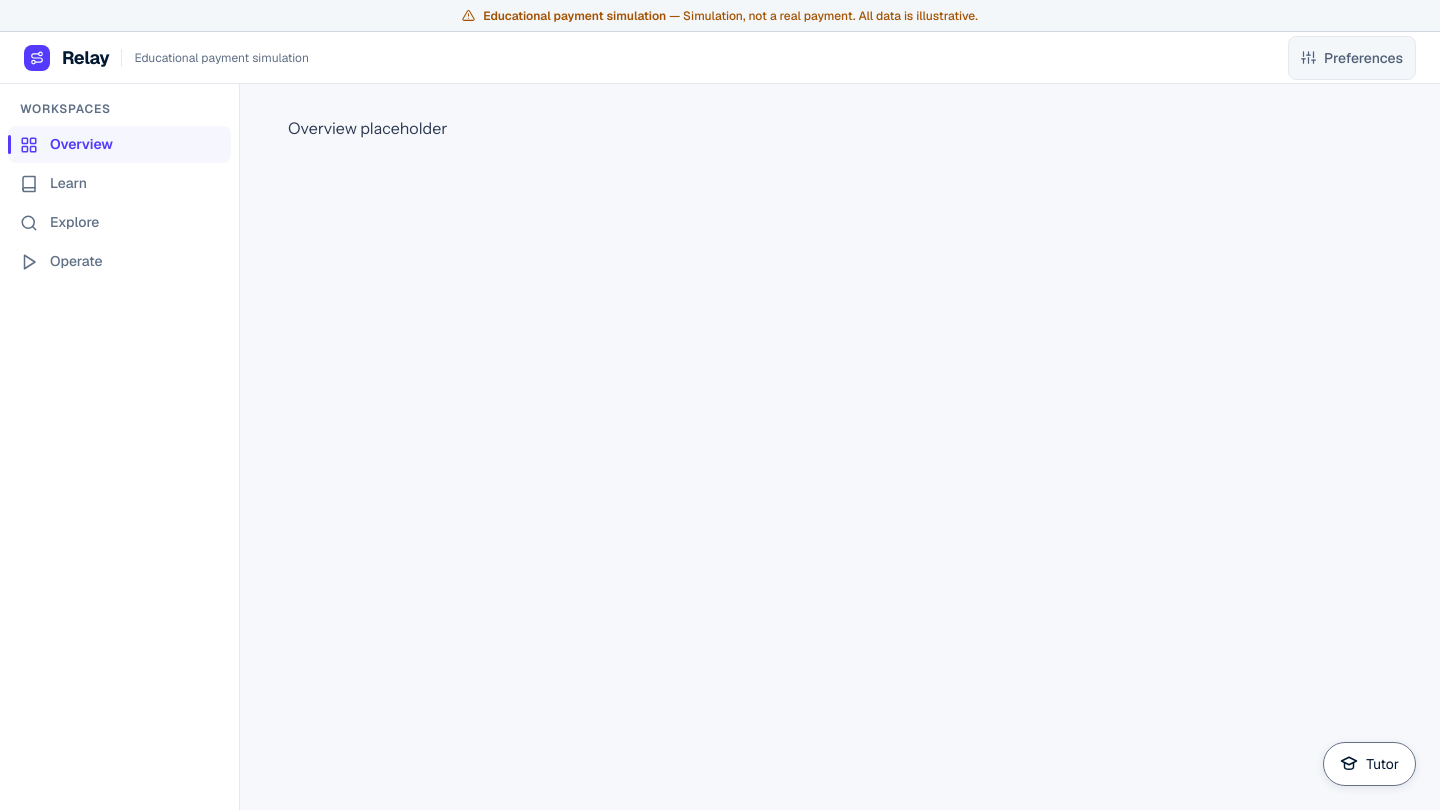
Scenario: AppShell preferences › reaches the settings route through the menu, and closes the menu on the way
What coordinates should you click on to do the following:
click the button "Preferences"
I would click on:
 (1352, 58)
Its box is [1288,36,1416,80].
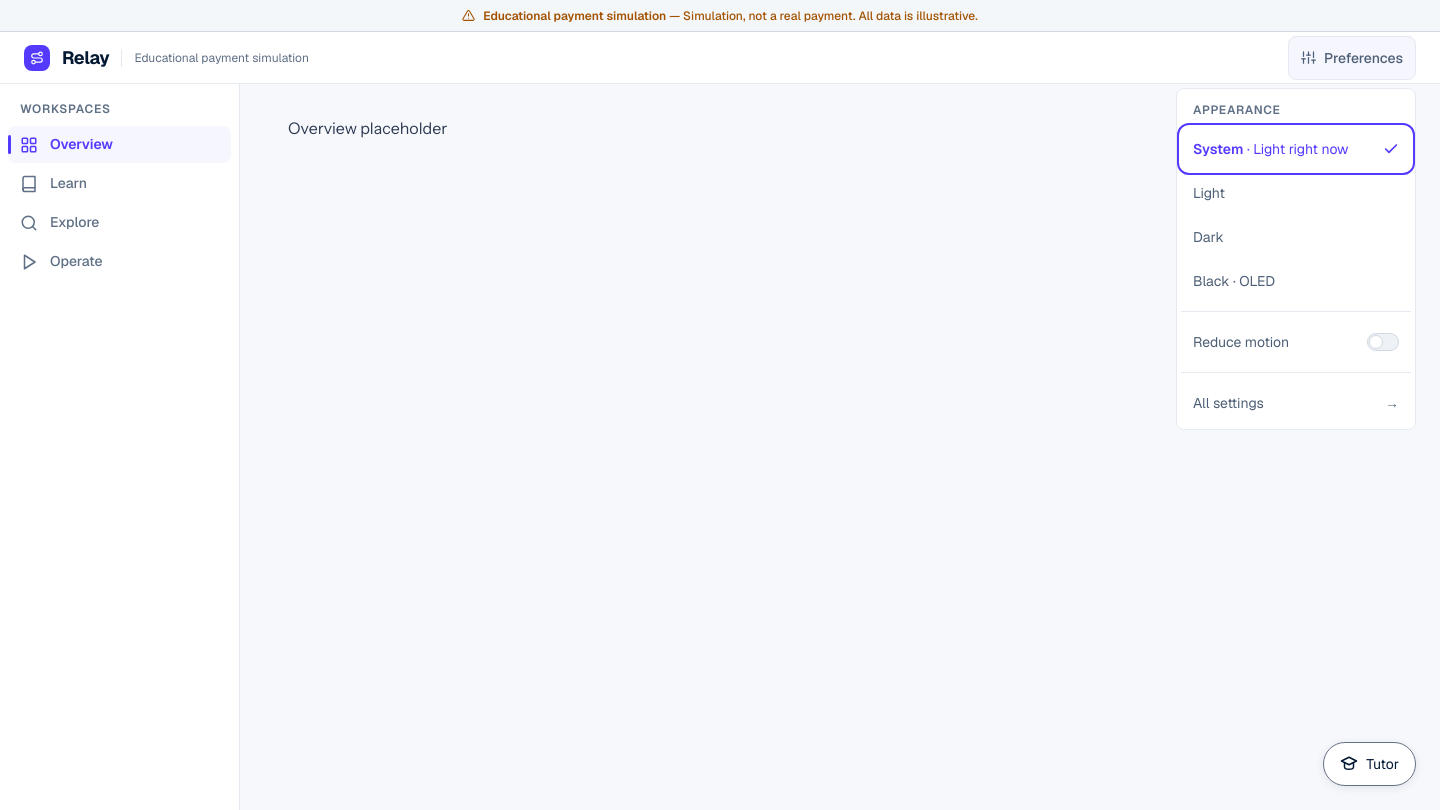
What coordinates should you click on to do the following:
click the menu item "All settings →"
I would click on:
 (1228, 402)
Its box is [1193,394,1399,412].
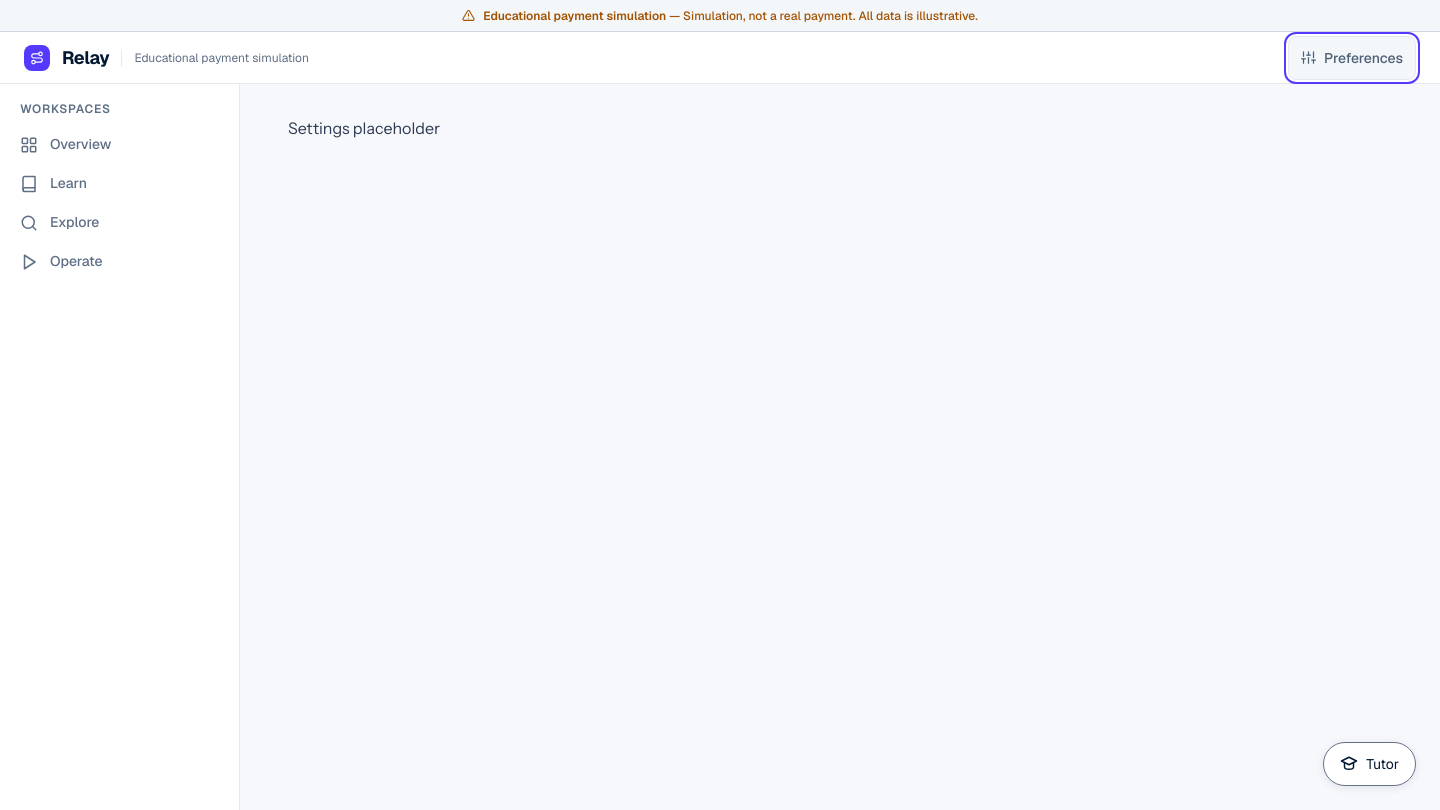
Expected: the text "Settings placeholder" is shown, [288,118,440,138]
